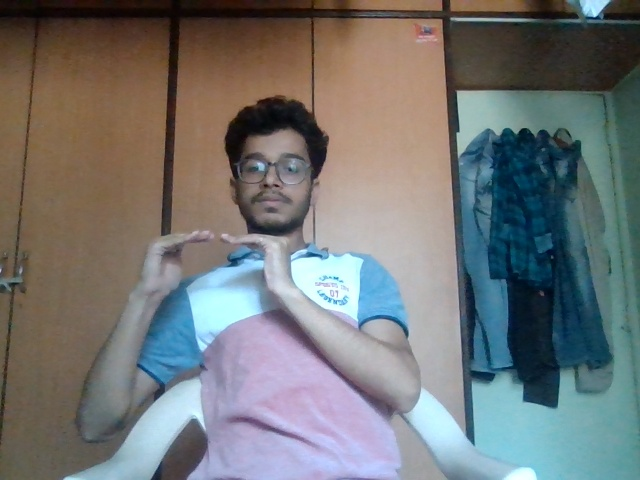afternoon: (123, 220, 312, 320)
